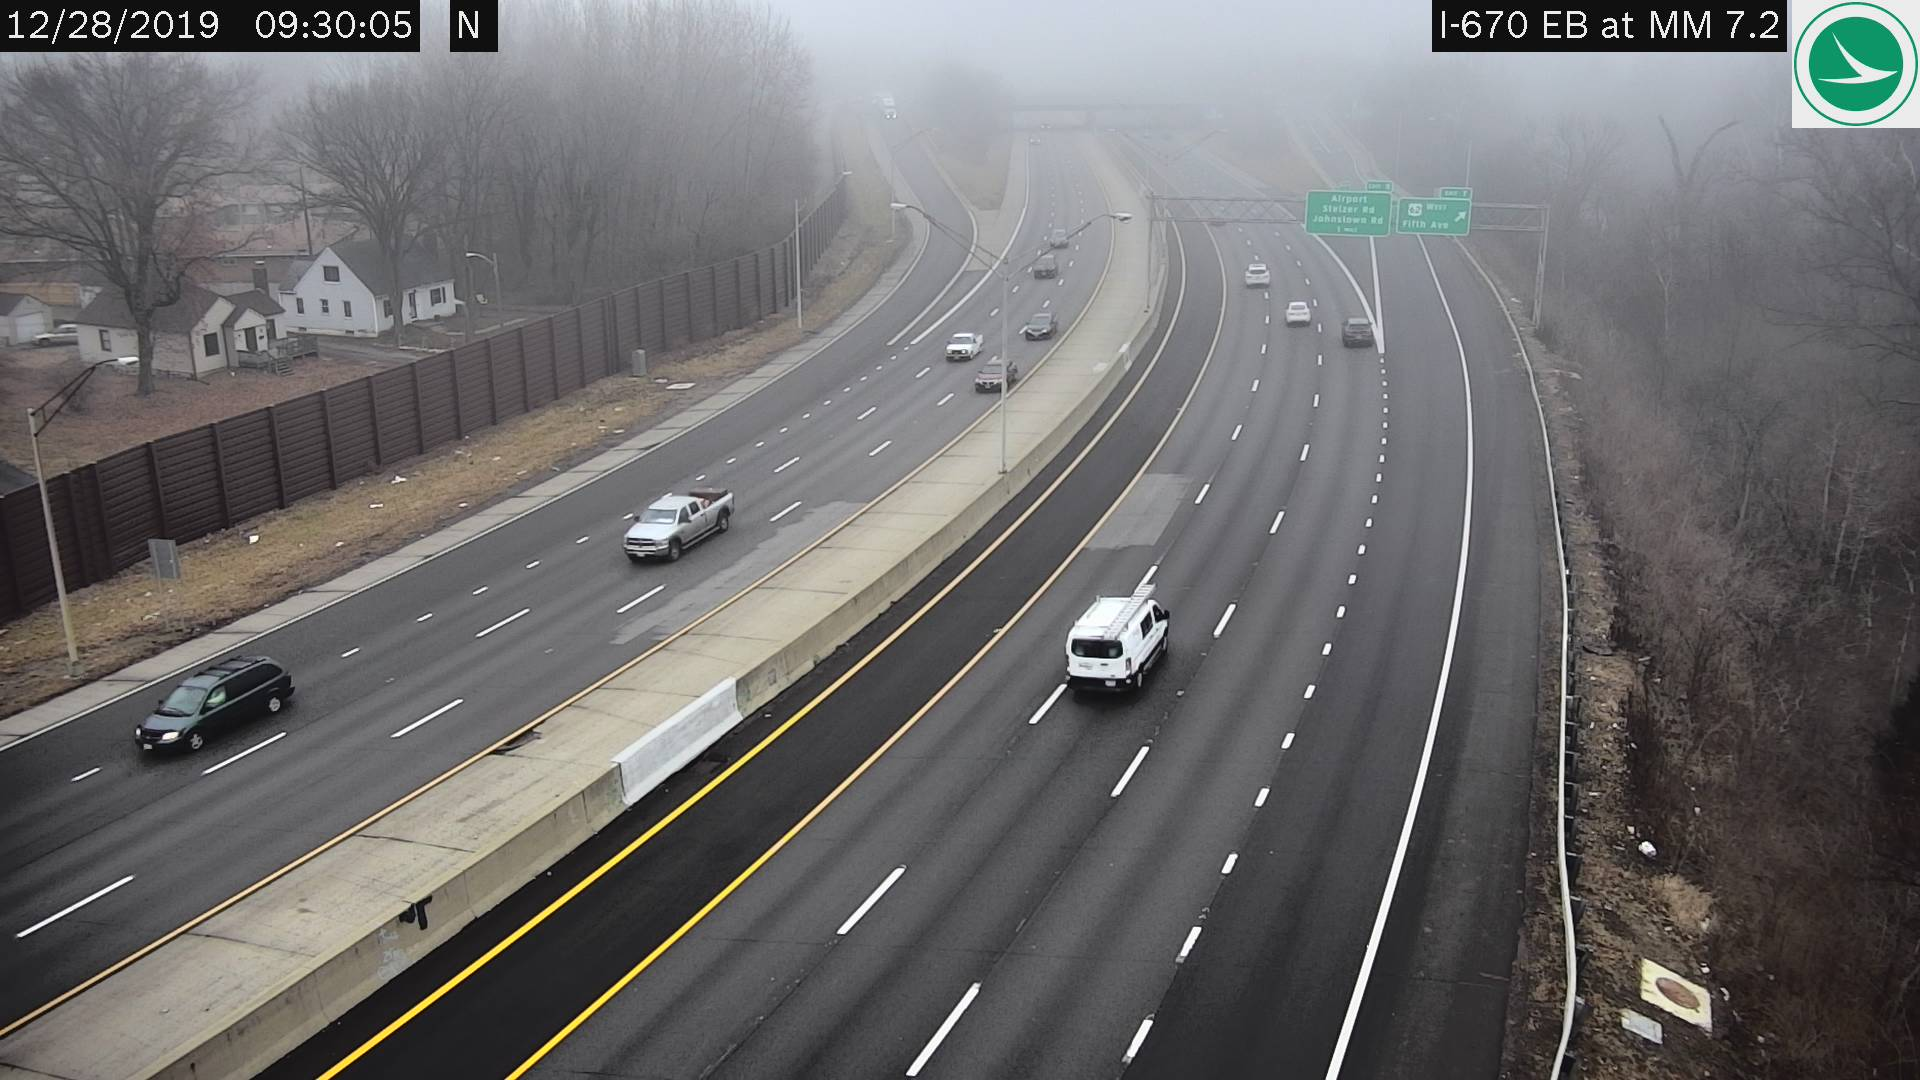car: (138, 655, 290, 756), (1062, 596, 1170, 692), (626, 488, 735, 560), (975, 356, 1014, 388), (945, 328, 982, 356), (1342, 316, 1370, 344), (1022, 309, 1054, 332), (1286, 301, 1309, 324), (1246, 260, 1270, 284), (1030, 252, 1054, 276)
